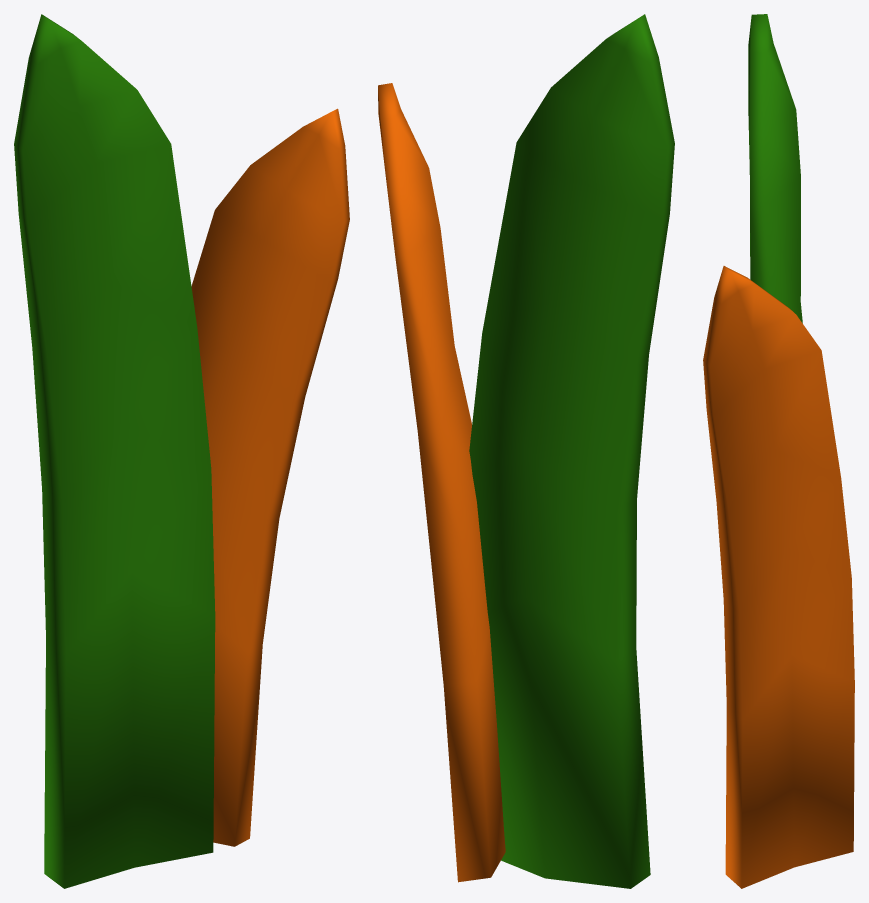
File: grass-08_col.fbx
3 renders of one model, left to right at view 1: azimuth 30°, elevation 25°; view 2: azimuth 150°, elevation 25°; view 3: azimuth 270°, elevation 25°, orthographic. The views are drawn at different scales.
Parts seen in each view (by area): view 1: grass-08.col; view 2: grass-08.col; view 3: grass-08.col.
Part boxes in pixels (x1,y1,x2,y2): grass-08.col: [14, 14, 349, 888]; grass-08.col: [378, 14, 674, 888]; grass-08.col: [703, 14, 854, 888].
Bounding box in the file's own units: 0.0311 × 0.0835 × 0.0146.
1 material, 1 textured.
